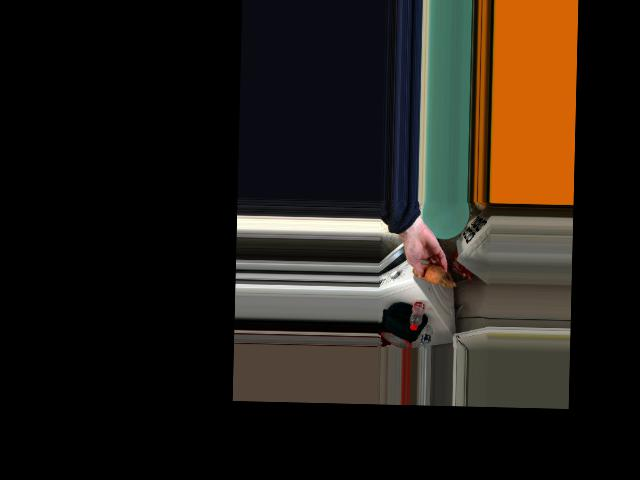sweet_potato: (417, 264, 444, 284)
